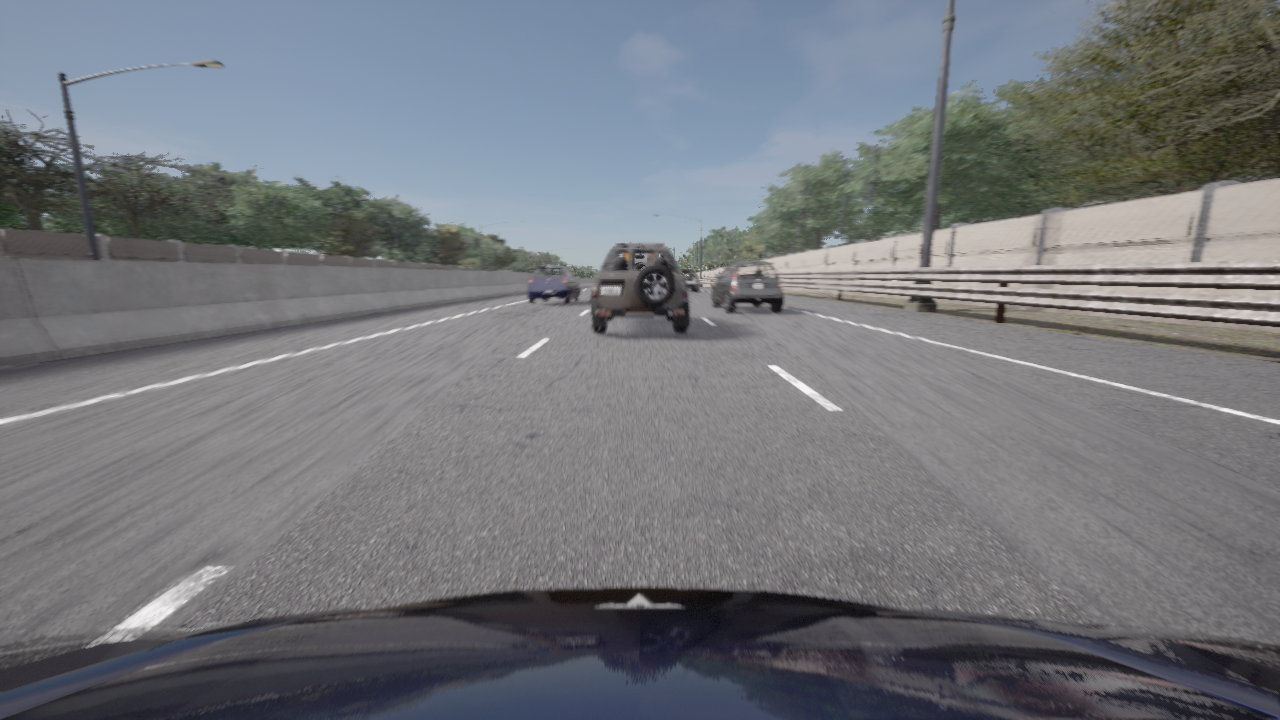cyclist: (0, 588, 1279, 719), (589, 243, 689, 333), (712, 261, 784, 313), (528, 267, 579, 304), (680, 270, 698, 291)
